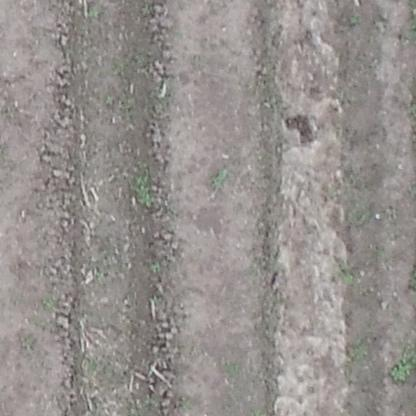corn: (132, 173, 155, 210)
